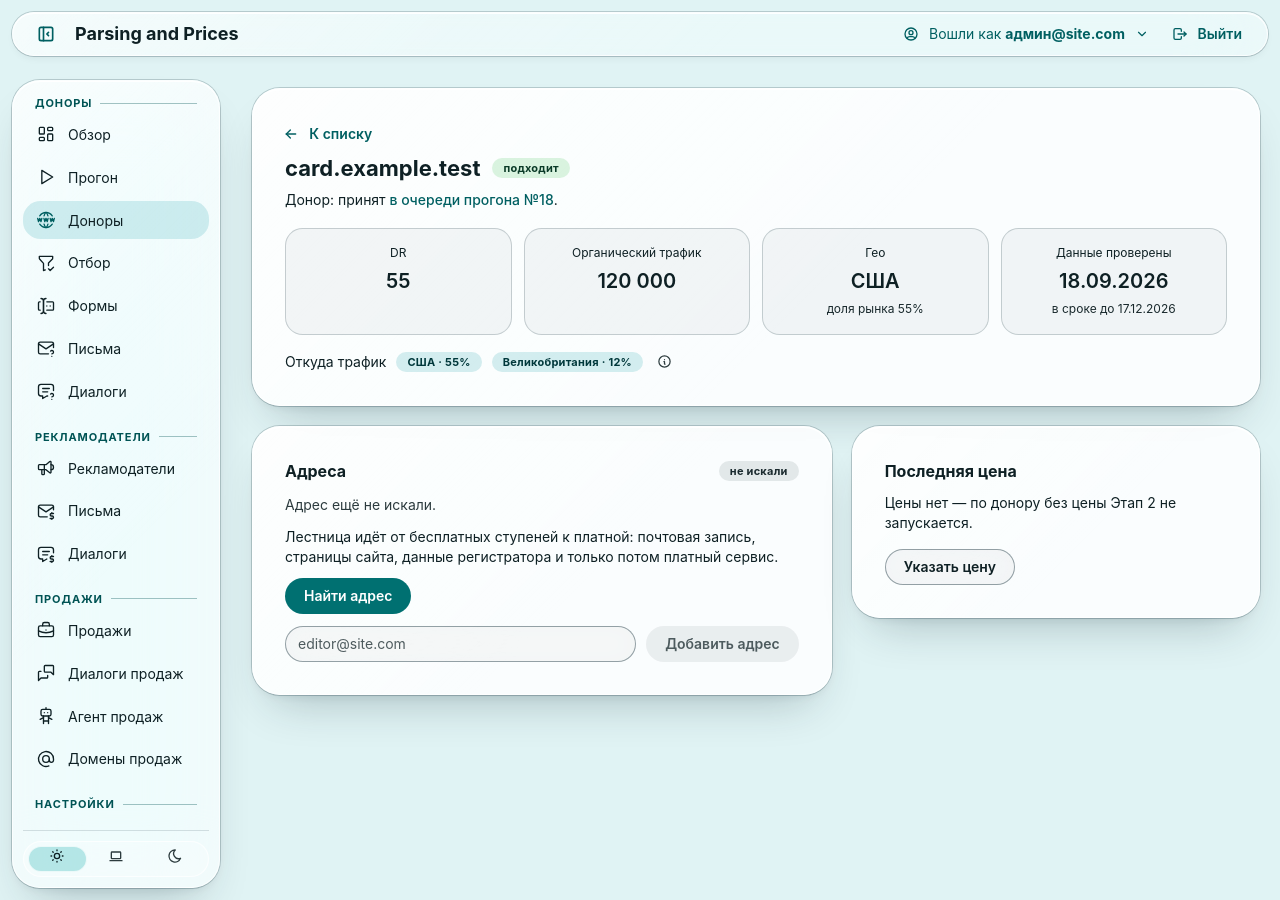
карточка донора: откуда трафик › полная разбивка — все страны, без пометки, «i» — как было
expect the heading "card.example.test" is shown: met, box [285,153,480,184]
expect the text "Великобритания · 12%" is shown: met, box [503,353,632,371]
Step 1. Hover over the button named "Как проверяется страна" → (664, 362), box [653,351,675,373]
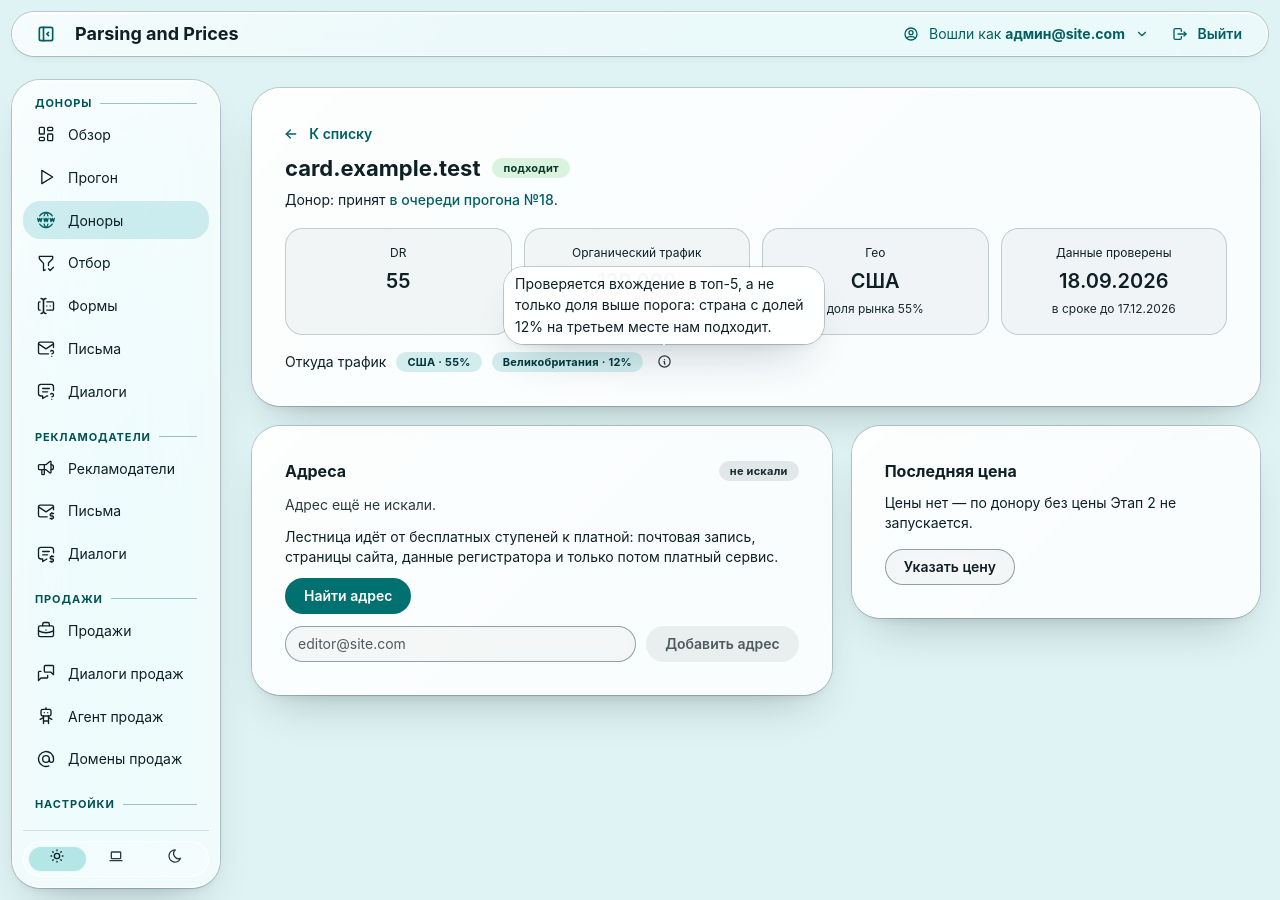
expect the tooltip "Проверяется вхождение в топ-5" is shown: met, box [515,275,804,335]
